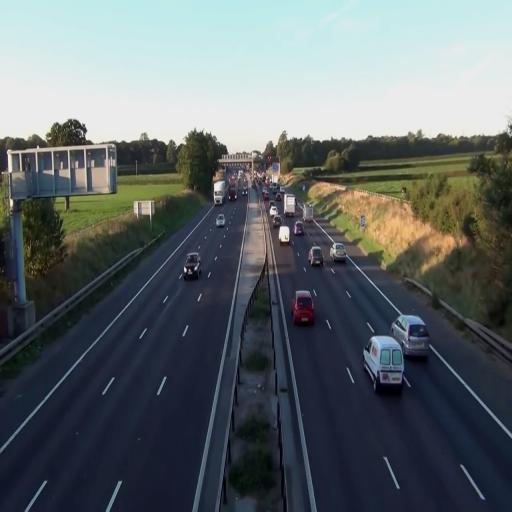vehicle: (362, 336, 406, 393), (390, 314, 430, 361), (292, 290, 316, 326), (183, 252, 201, 280), (213, 175, 226, 205), (213, 176, 226, 206), (330, 242, 347, 264), (308, 245, 323, 268), (278, 225, 290, 244), (269, 205, 279, 227), (216, 213, 226, 228)
